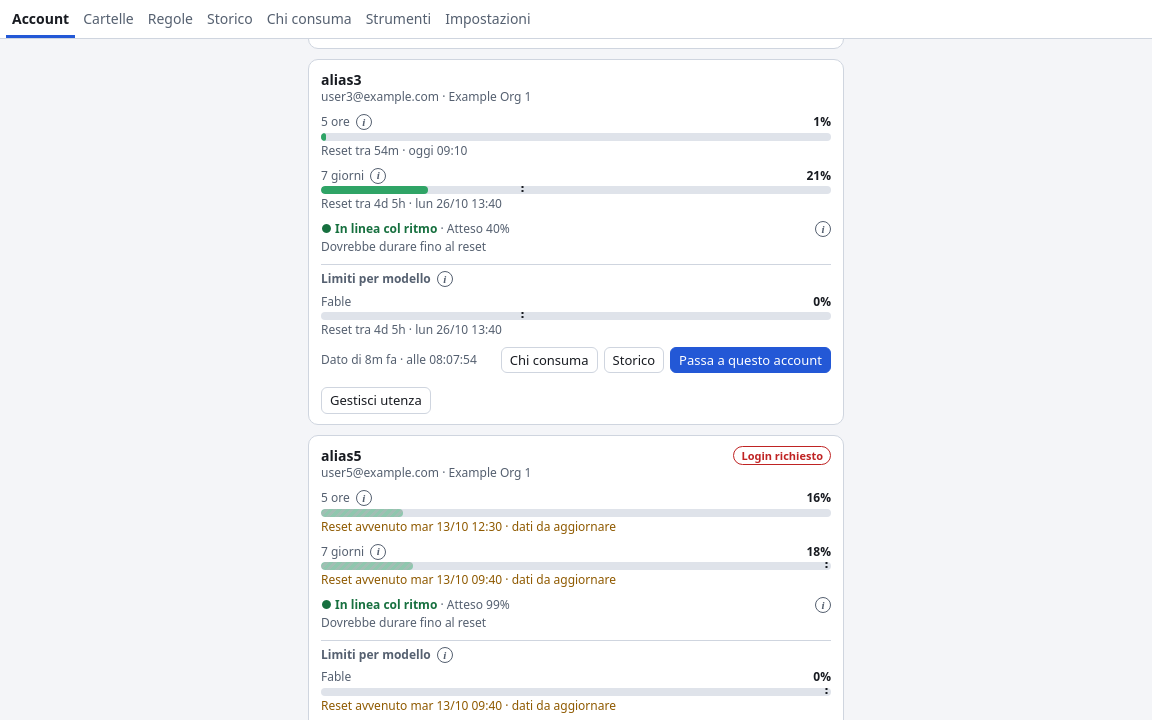
Test: SwapDeckApp: Chi consuma questa utenza › dalla scheda di un account apre «Chi consuma» già filtrata su quell’utenza
The image size is (1152, 720).
(page scrolled)
Click the button with aria-label "Chi consuma questa utenza: alias3": click(549, 360) 501,347 -> 598,373
(page scrolled)
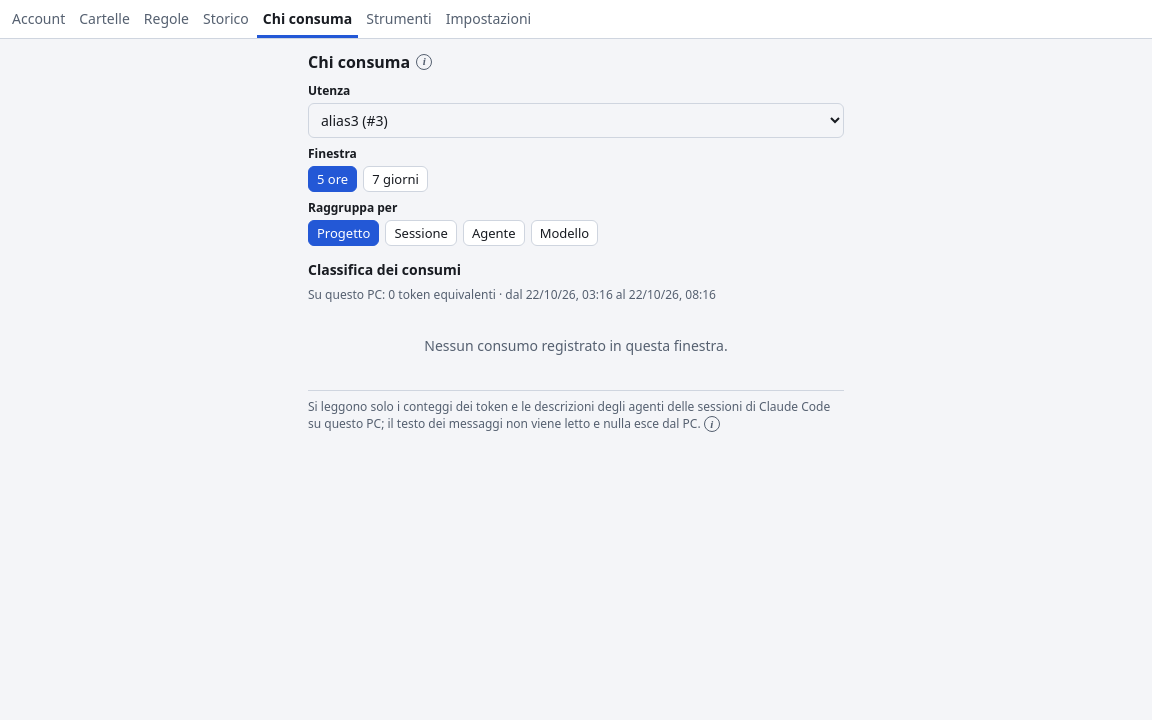
Check: the heading "Chi consuma" is shown, box 308,51 -> 410,73
Check: the text "Nessun consumo registrato in questa finestra." is shown, box 424,336 -> 728,356
Check: the dropdown labelled "Utenza" shows "alias3 (#3)", box 308,103 -> 844,138
